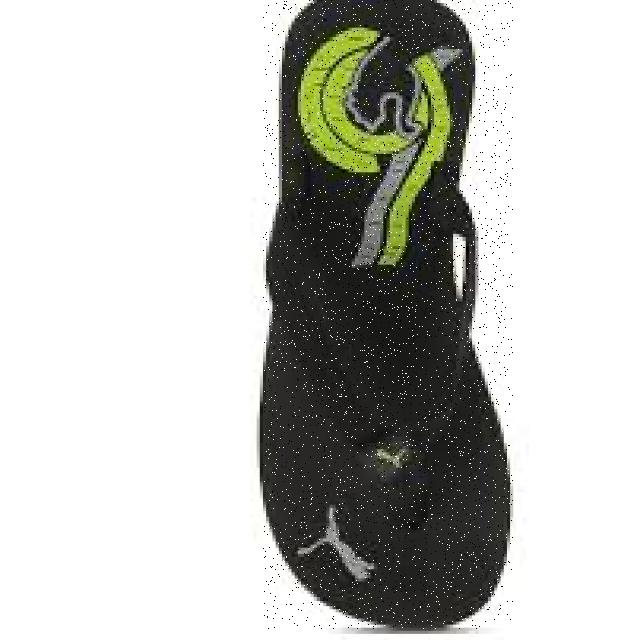other: (263, 0, 513, 629)
